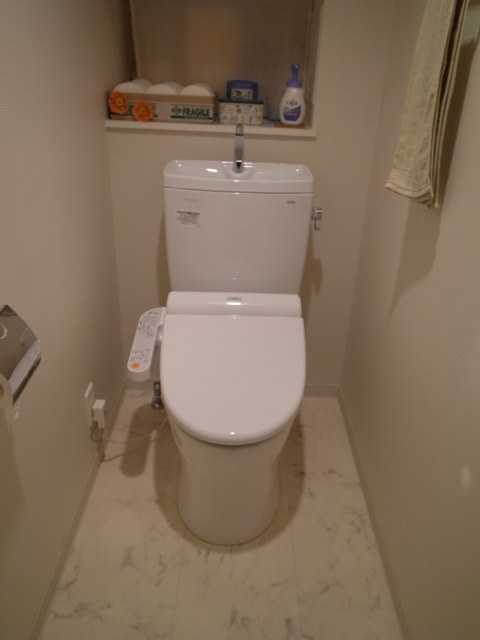toilet_paper: (147, 82, 182, 94), (182, 82, 214, 95), (116, 80, 147, 93)
